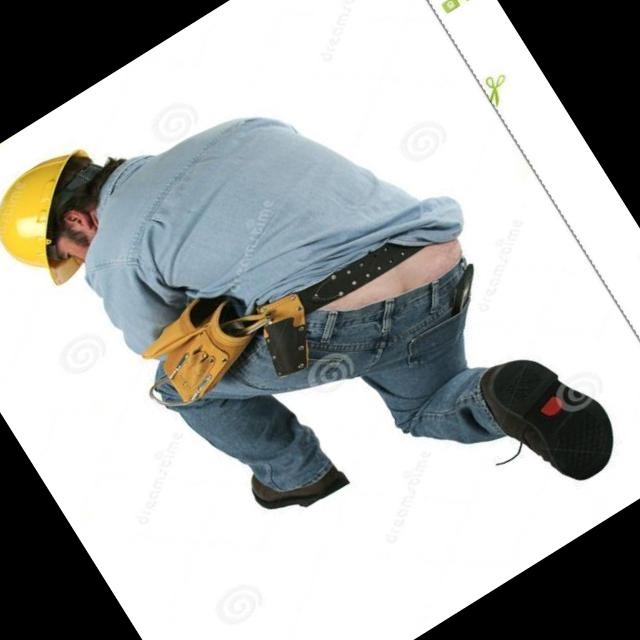hard_hat: (0, 133, 143, 302)
vehicle: (0, 0, 640, 640)
work_boots: (464, 325, 632, 508), (242, 430, 354, 532)
